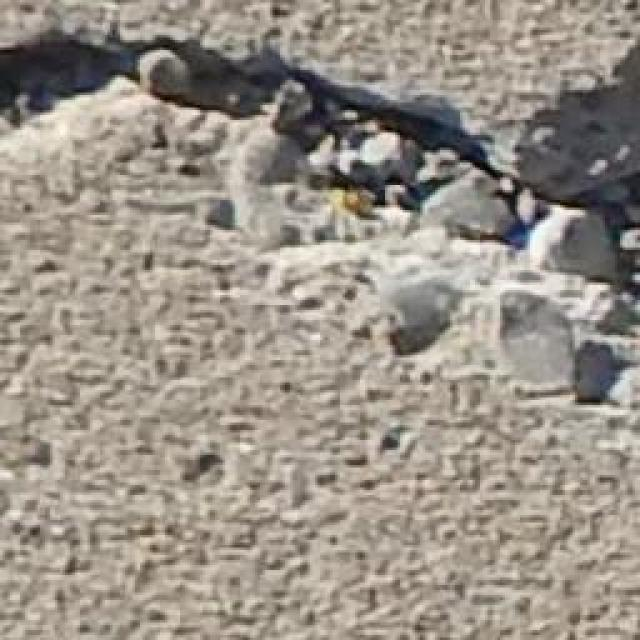concrete-crack: (0, 29, 640, 305)
